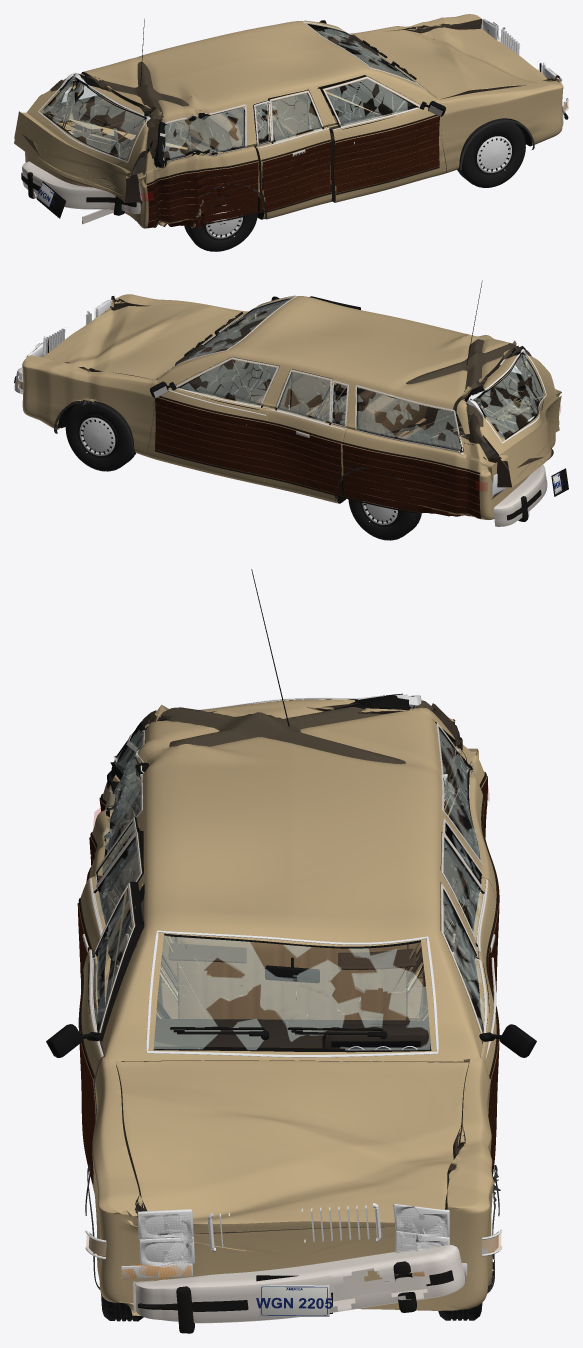
File: wagon82_rear_corner_R_d1.glb
3 views of the same model, one above another, from view 1: azimuth 30°, elevation 25°; view 2: azimuth 150°, elevation 25°; view 3: azimuth 270°, elevation 25° (orthographic). The views are drawn at different scales.
Parts seen in each view (by area): view 1: Body, Hood, Tailgate, Trim, Interior, Trim_FR, Trim_RR, Glass, Glass_Tailgate, Door_FR, Wheel_FR_mesh, Bumper_R (+5 smaller); view 2: Body, Hood, Trim, Interior, Trim_FL, Tailgate, Trim_RL, Glass, Wheel_FL_mesh, Door_FL, Glass_Tailgate, Glass_FL (+6 smaller); view 3: Body, Hood, Interior, Glass, Bumper_F, Ends, Door_FR, Trim, Trim_FR, Lamps_Head, Tailgate, Trim_FL (+9 smaller).
Boxes of the visible parts, bbox=[...] form: Body: bbox=[25, 14, 563, 228]; Hood: bbox=[351, 27, 548, 99]; Tailgate: bbox=[14, 74, 159, 204]; Trim: bbox=[64, 19, 534, 227]; Interior: bbox=[72, 35, 412, 175]; Trim_FR: bbox=[323, 77, 445, 194]; Trim_RR: bbox=[254, 91, 332, 212]; Glass: bbox=[61, 21, 427, 167]; Glass_Tailgate: bbox=[38, 72, 150, 162]; Door_FR: bbox=[320, 75, 446, 202]; Wheel_FR_mesh: bbox=[457, 118, 525, 187]; Bumper_R: bbox=[21, 161, 140, 215]; Body: bbox=[22, 294, 561, 519]; Hood: bbox=[42, 304, 246, 379]; Trim: bbox=[54, 280, 531, 518]; Interior: bbox=[175, 319, 530, 499]; Trim_FL: bbox=[150, 357, 278, 477]; Tailgate: bbox=[456, 346, 561, 487]; Trim_RL: bbox=[264, 370, 348, 495]; Glass: bbox=[167, 296, 533, 452]; Wheel_FL_mesh: bbox=[65, 401, 135, 471]; Door_FL: bbox=[147, 357, 279, 485]; Glass_Tailgate: bbox=[466, 349, 546, 443]; Glass_FL: bbox=[177, 357, 276, 409]; Body: bbox=[89, 704, 496, 1315]; Hood: bbox=[116, 1060, 468, 1233]; Interior: bbox=[154, 936, 430, 1049]; Glass: bbox=[104, 722, 480, 1057]; Bumper_F: bbox=[133, 1245, 464, 1333]; Ends: bbox=[85, 774, 502, 1316]; Door_FR: bbox=[80, 881, 144, 1194]; Trim: bbox=[85, 569, 500, 1293]; Trim_FR: bbox=[46, 883, 134, 1183]; Lamps_Head: bbox=[139, 1214, 448, 1267]; Tailgate: bbox=[135, 693, 459, 839]; Trim_FL: bbox=[441, 883, 536, 1175].
Bounding box in the file's own units: 4.98 × 2.12 × 2.14.
Materials: 35 (6 with a texture image).
